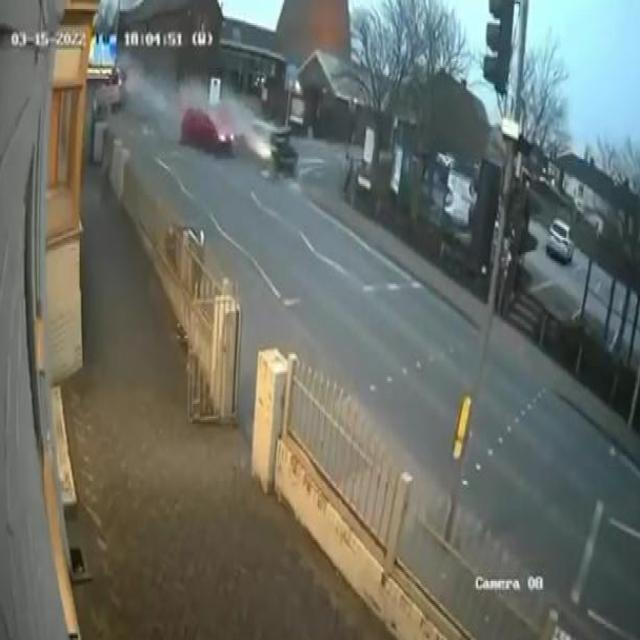accident: (177, 99, 300, 187)
